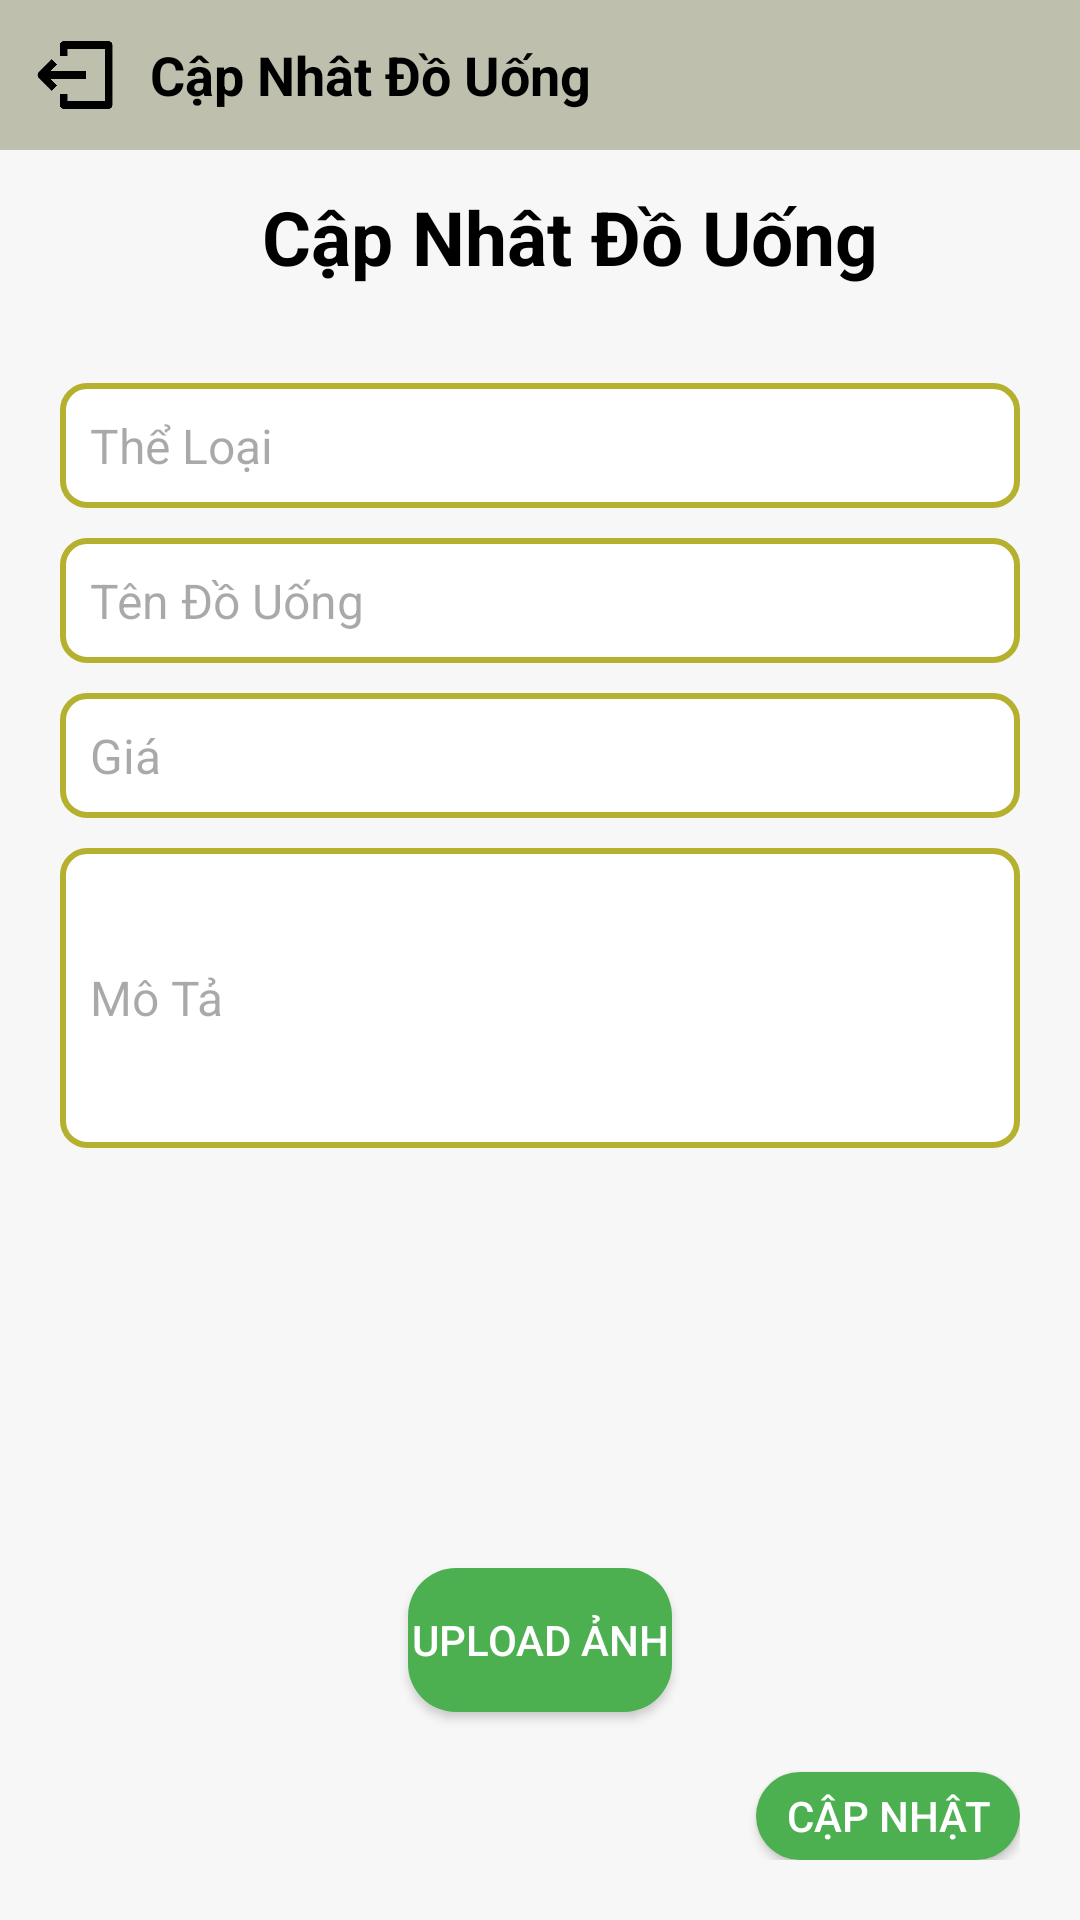

Where icons sit on this 1080 × 1920 app screen, as bbox=(x1, y1, x2, y2):
Thoát: bbox=(37, 41, 113, 109)
